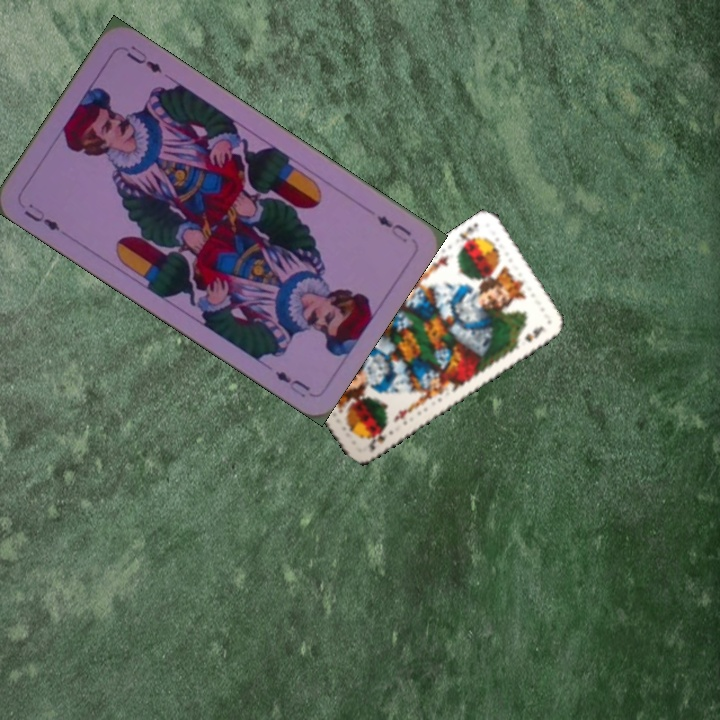EU: (20, 199, 63, 234), (372, 211, 414, 246)
SK: (364, 423, 396, 454), (455, 219, 482, 251)
